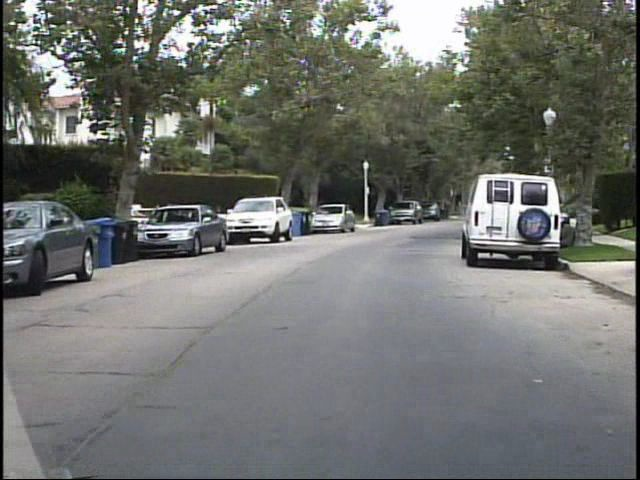person: (557, 216, 579, 252)
